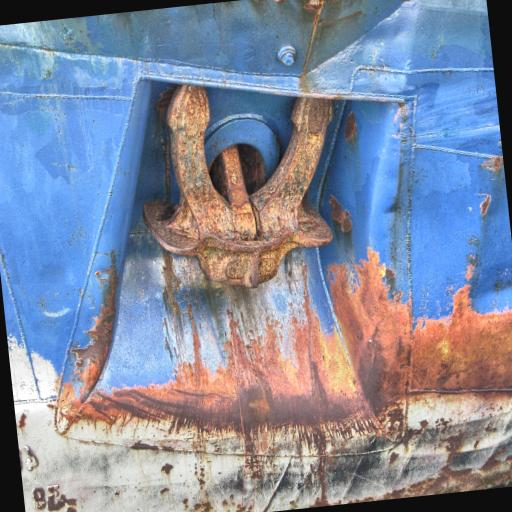segmentation: (54, 234, 409, 455), (143, 86, 333, 288), (328, 247, 411, 411), (409, 285, 512, 391), (69, 251, 118, 403), (383, 450, 512, 500), (303, 0, 324, 74), (329, 194, 352, 232), (318, 458, 329, 505), (480, 156, 504, 172), (47, 494, 68, 511), (345, 111, 357, 140), (33, 488, 46, 509), (480, 194, 491, 216), (161, 463, 173, 475)
